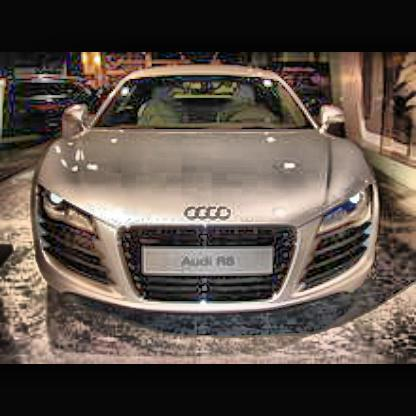Audi R8 Coupe 2012: (32, 64, 385, 338)
